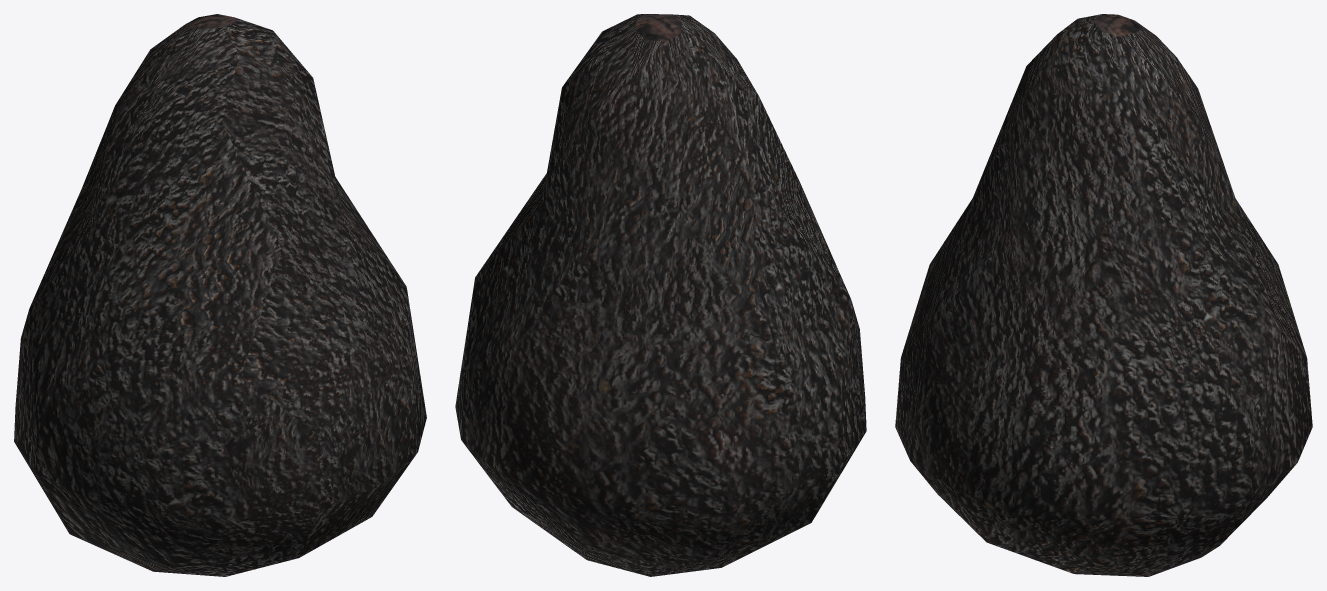
File: AvocadoWholeSingle_LowPoly.FBX
The picture shows the model from 3 angles, left to right: view 1: azimuth 30°, elevation 25°; view 2: azimuth 150°, elevation 25°; view 3: azimuth 270°, elevation 25°; orthographic projection.
Parts seen in each view (by area): view 1: AvacadoWhole_LowPoly; view 2: AvacadoWhole_LowPoly; view 3: AvacadoWhole_LowPoly.
Boxes of the visible parts, x1=… form: AvacadoWhole_LowPoly: x1=14, y1=14, x2=426, y2=576; AvacadoWhole_LowPoly: x1=455, y1=14, x2=866, y2=576; AvacadoWhole_LowPoly: x1=895, y1=14, x2=1312, y2=576.
Size of the model in its own units: 9.53 by 13.46 by 9.36.
Materials: 1 (1 with a texture image).
